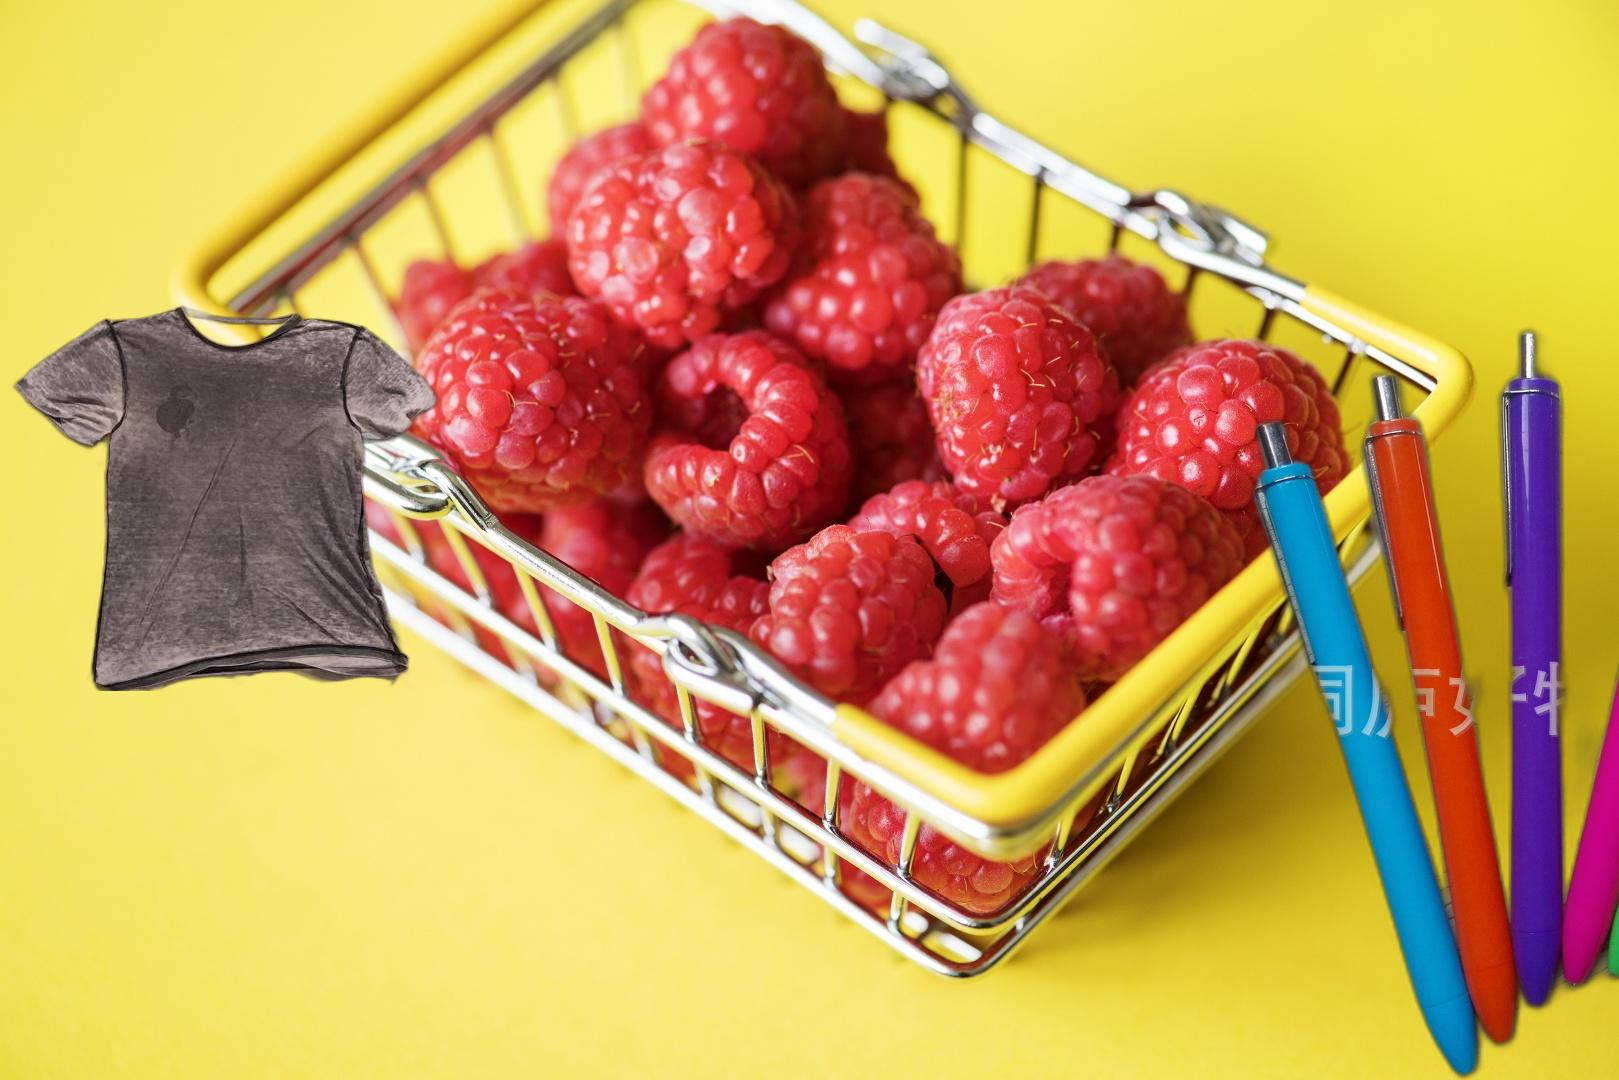clothes: (8, 301, 448, 691)
penholder: (1243, 215, 1619, 1080)
